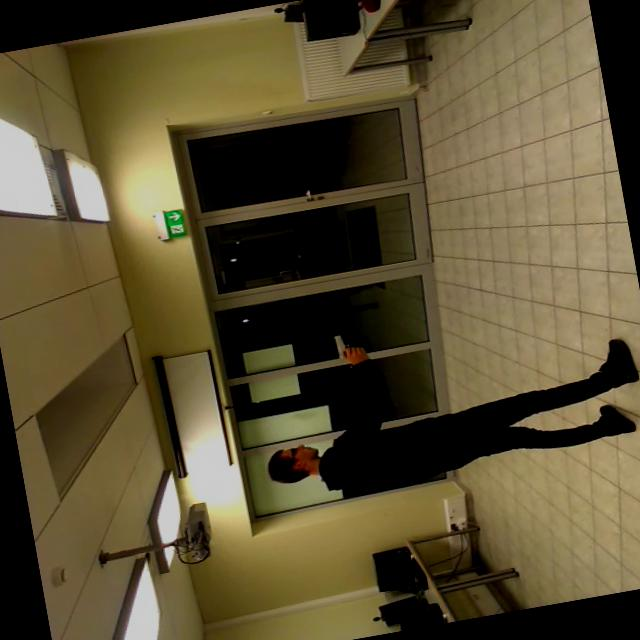handgun: (324, 319, 374, 367)
